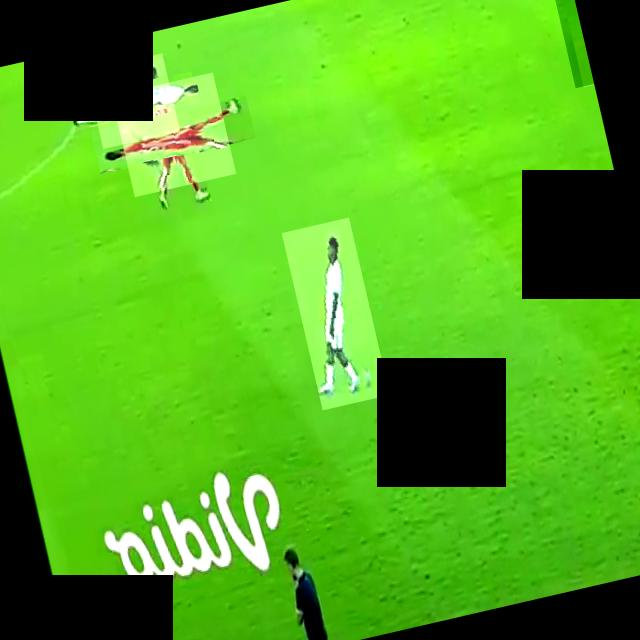soccer-player: (280, 216, 388, 409), (110, 71, 234, 196), (84, 52, 178, 148), (541, 0, 593, 87), (40, 46, 86, 60)
